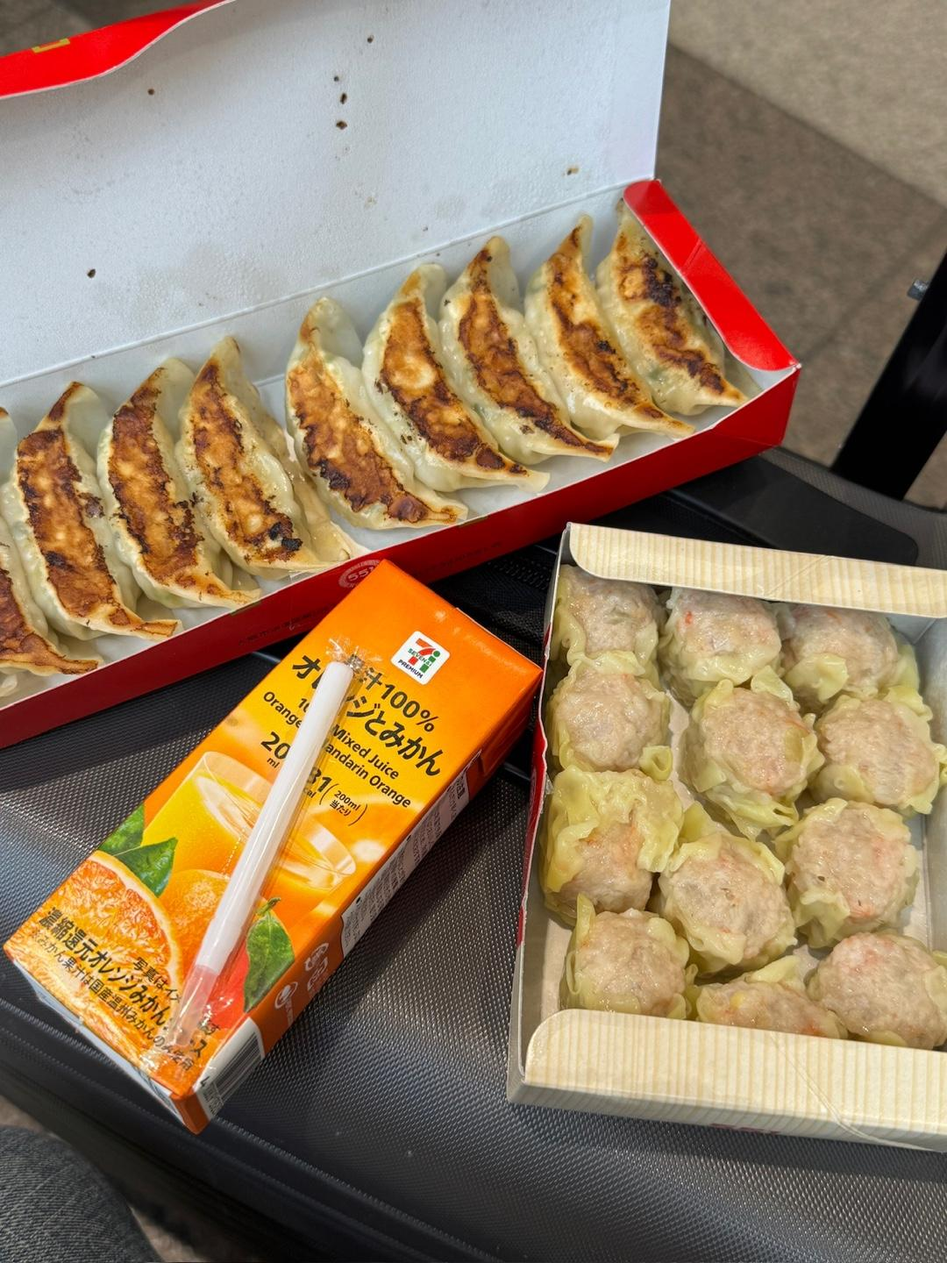Lunch Box: (0, 0, 798, 748), (508, 525, 946, 1148)
